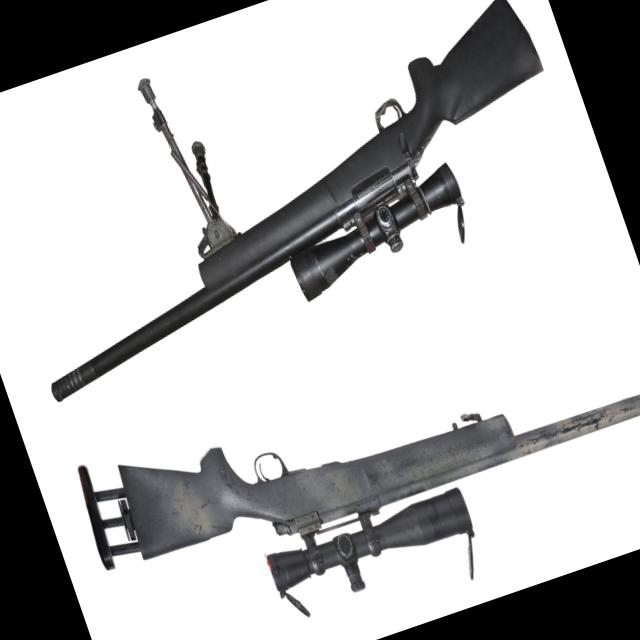Weapon: (0, 0, 609, 428), (58, 272, 640, 640)
